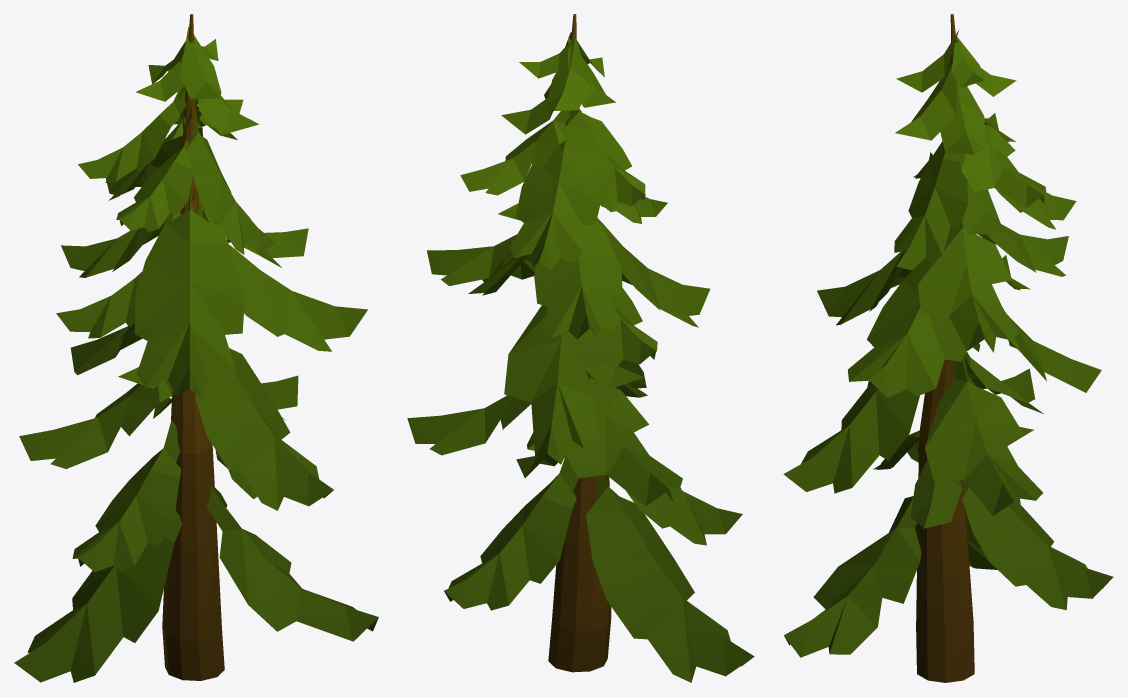
File: tree_level_5.glb
3 views of the same model, side by side, from view 1: azimuth 30°, elevation 25°; view 2: azimuth 150°, elevation 25°; view 3: azimuth 270°, elevation 25° (orthographic).
Visible parts, largest first — view 1: tree_level_5; view 2: tree_level_5; view 3: tree_level_5.
Boxes of the visible parts, x1,y1,x2,y2 form: tree_level_5: (14, 14, 378, 682); tree_level_5: (407, 14, 754, 682); tree_level_5: (783, 14, 1113, 682).
Size of the model in its own units: 5.76 by 11.32 by 5.17.
1 material, 1 textured.
